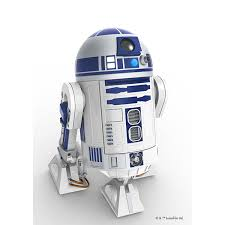r2d2: (49, 27, 169, 217)
